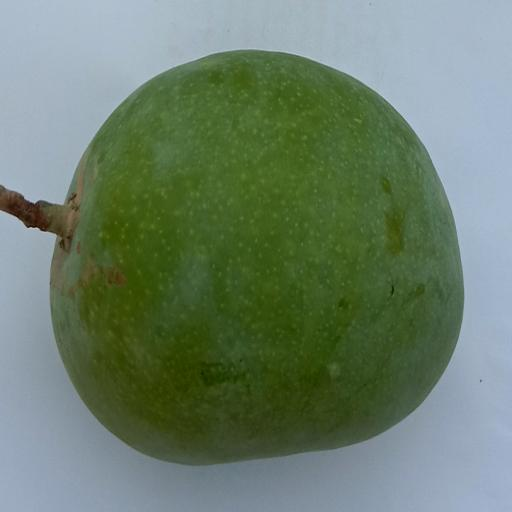mango-unripe: (0, 3, 486, 490)
